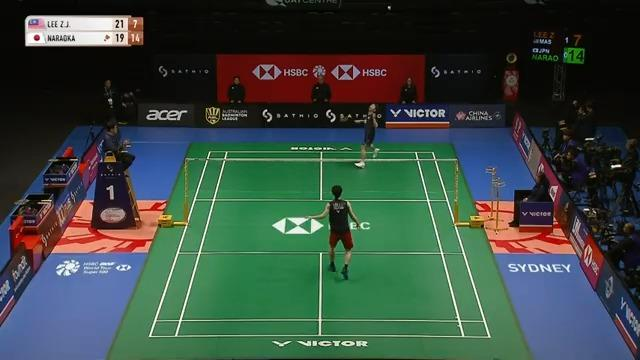Shuttlecock: (384, 4, 392, 12)
